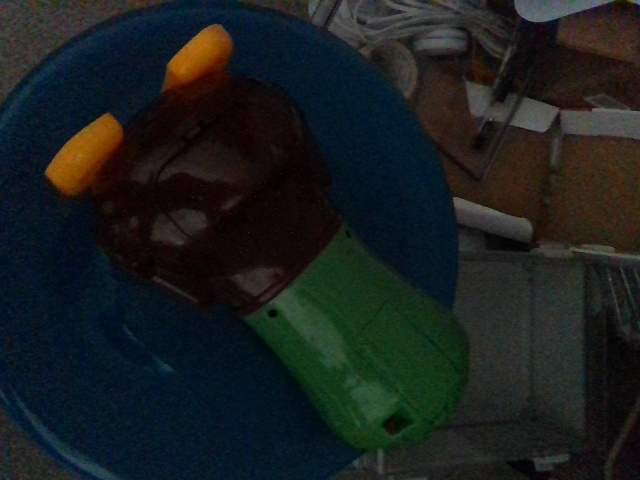screw hole: (266, 308, 278, 318), (344, 229, 351, 238)
toy: (45, 23, 472, 450)
